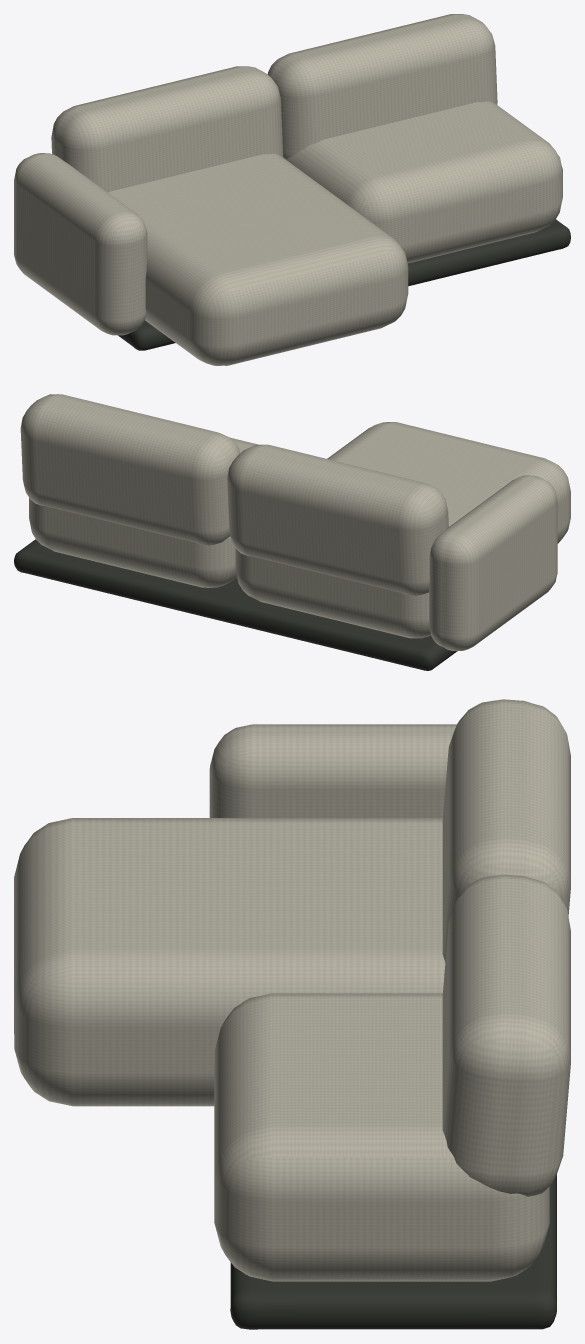
File: measured.glb
3 renders of one model, top to bottom at view 1: azimuth 30°, elevation 25°; view 2: azimuth 150°, elevation 25°; view 3: azimuth 270°, elevation 25°, orthographic. The views are drawn at different scales.
Visible parts, largest first — view 1: Upholstered seat, Upholstered seat_1, Back cushion_1, Back cushion, Rolled end, Shadow plinth; view 2: Back cushion, Back cushion_1, Upholstered seat, Rolled end, Shadow plinth, Upholstered seat_1; view 3: Upholstered seat, Upholstered seat_1, Back cushion_1, Back cushion, Rolled end, Shadow plinth.
Boxes of the visible parts, <box> form: Upholstered seat: <box>108,153,408,365</box>; Upholstered seat_1: <box>285,101,562,263</box>; Back cushion_1: <box>268,14,497,158</box>; Back cushion: <box>51,66,283,192</box>; Rolled end: <box>14,153,147,335</box>; Shadow plinth: <box>118,219,570,350</box>; Back cushion: <box>227,444,448,595</box>; Back cushion_1: <box>20,394,239,545</box>; Upholstered seat: <box>235,422,570,638</box>; Rolled end: <box>429,475,557,650</box>; Shadow plinth: <box>14,539,457,670</box>; Upholstered seat_1: <box>29,437,257,587</box>; Upholstered seat: <box>14,818,445,1106</box>; Upholstered seat_1: <box>214,993,549,1281</box>; Back cushion_1: <box>442,874,570,1196</box>; Back cushion: <box>442,699,570,961</box>; Rolled end: <box>209,724,456,817</box>; Shadow plinth: <box>230,1174,556,1329</box>.
Bounding box in the file's own units: 1.97 × 0.7087 × 1.2.
2 materials, 1 textured.
